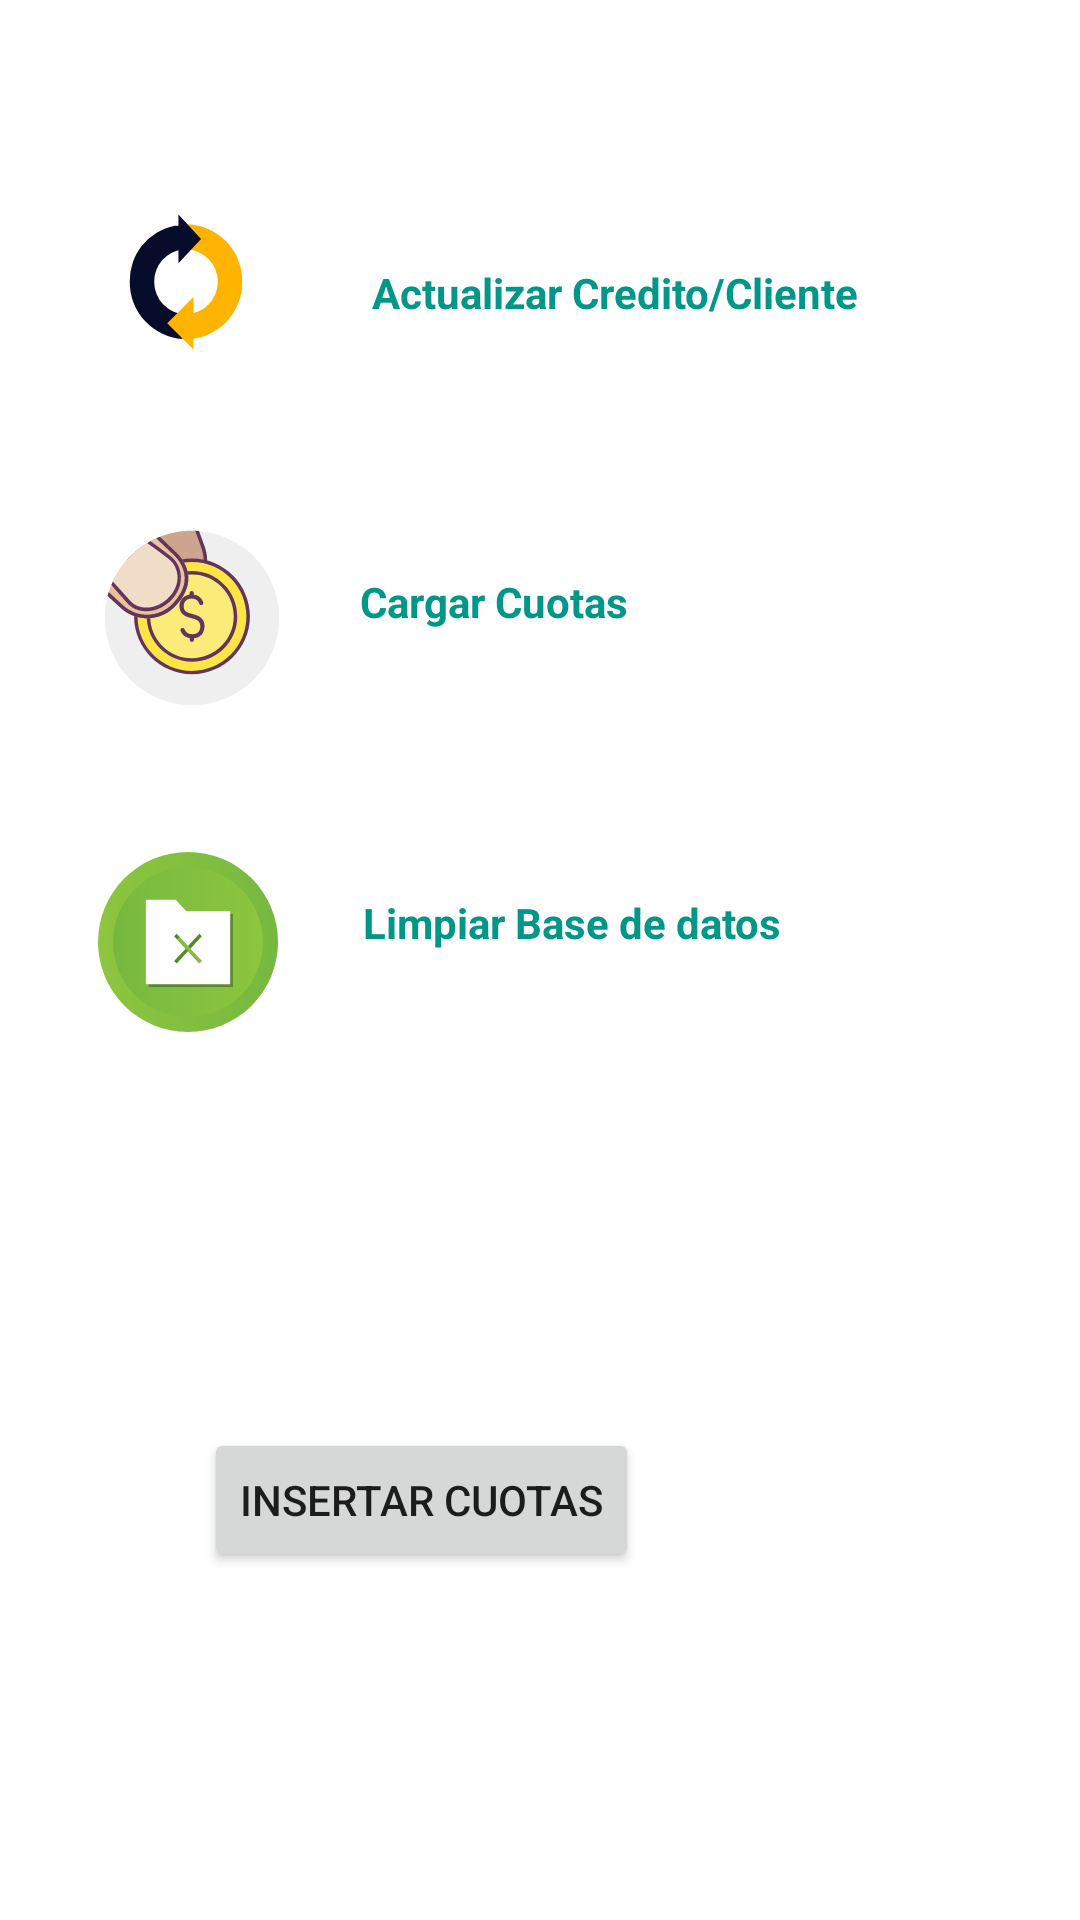

Where icons sit on this 1080px×1920px app screen, as [x1=x1, y1=y1, x2=x2, y2=y2]:
clear data: [x1=98, y1=852, x2=278, y2=1032]
udpate: [x1=129, y1=214, x2=243, y2=350]
